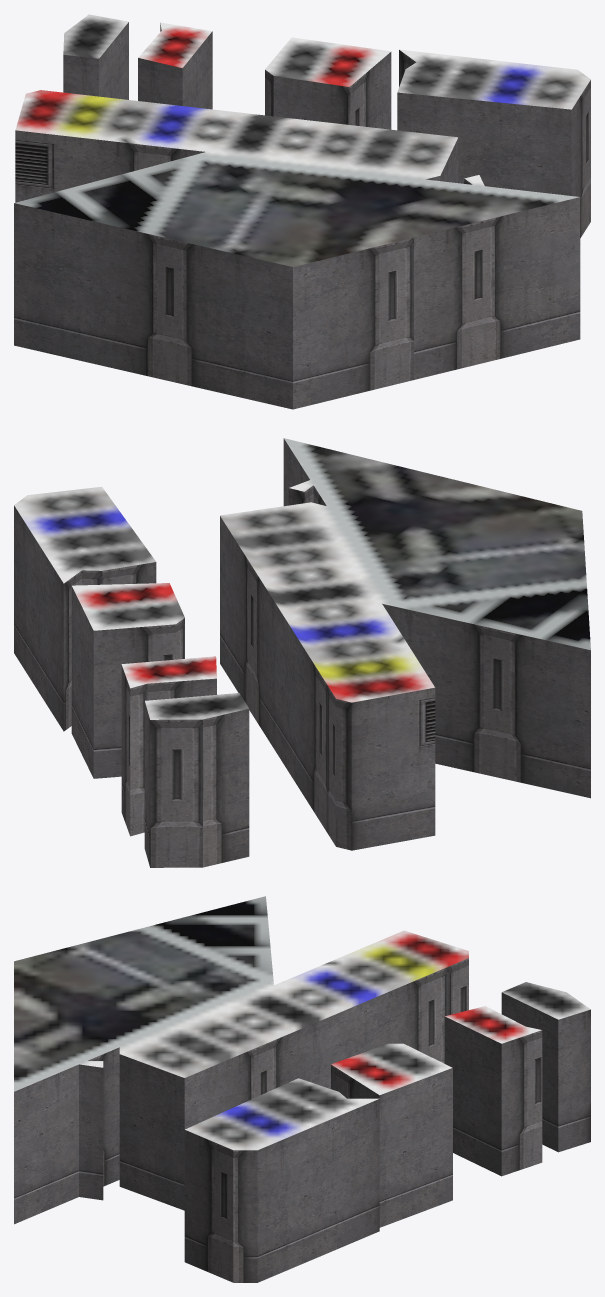
File: BuildingSystem-03-Advance-04-ReinforcedLow-N-109-03.glb
3 views of the same model, one above another, from view 1: azimuth 30°, elevation 25°; view 2: azimuth 150°, elevation 25°; view 3: azimuth 270°, elevation 25° (orthographic). The views are drawn at different scales.
Parts seen in each view (by area): view 1: buildings/saxarba/SMV_Buildings/BuildingSystem-03-Advance-04; view 2: buildings/saxarba/SMV_Buildings/BuildingSystem-03-Advance-04; view 3: buildings/saxarba/SMV_Buildings/BuildingSystem-03-Advance-04.
Part boxes in pixels (x1,y1,x2,y2): buildings/saxarba/SMV_Buildings/BuildingSystem-03-Advance-04: [14, 14, 590, 409]; buildings/saxarba/SMV_Buildings/BuildingSystem-03-Advance-04: [14, 438, 590, 867]; buildings/saxarba/SMV_Buildings/BuildingSystem-03-Advance-04: [14, 896, 590, 1282].
Size of the model in its own units: 74 by 18 by 71.
